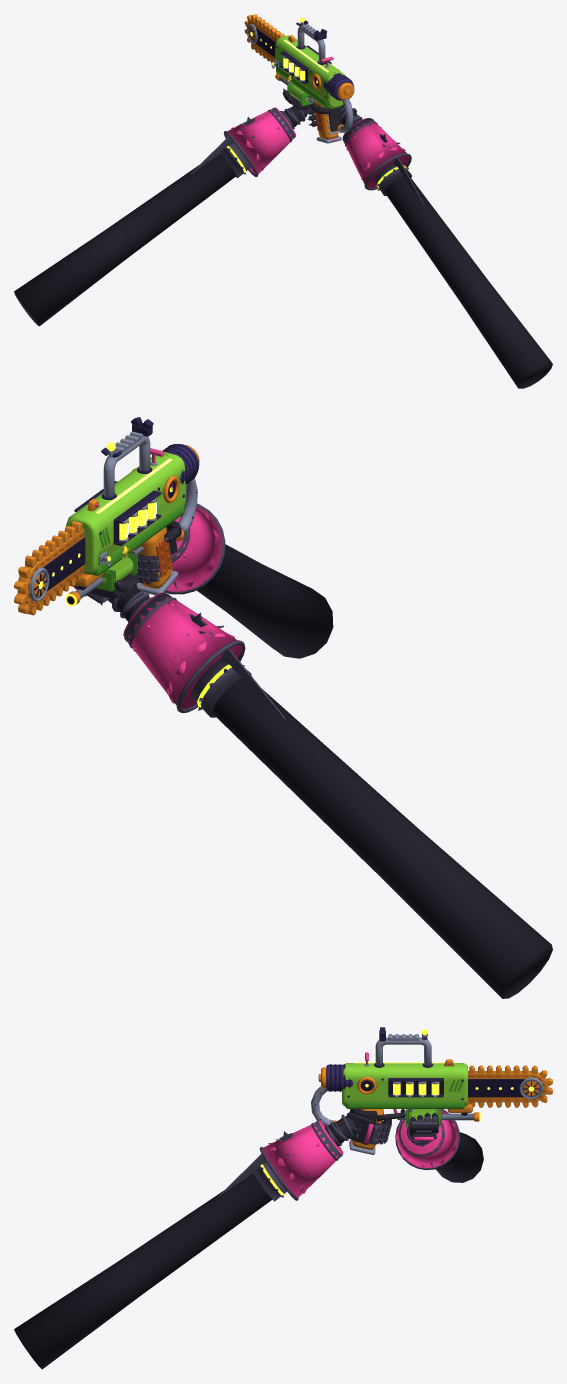
Rendered from toxic_ripsaw.glb.
3 renders of one model, top to bottom at view 1: azimuth 30°, elevation 25°; view 2: azimuth 150°, elevation 25°; view 3: azimuth 270°, elevation 25°, orthographic. The views are drawn at different scales.
Visible parts, largest first — view 1: ArmL, ArmR, Shell, ArmLKitBell, ArmRKitBell; view 2: ArmL, Shell, ArmR, ArmLKitBell, ArmRKitBell, Cell, Pump, ArmLKitFins; view 3: ArmR, Shell, ArmRKitBell, ArmLKitBell, ArmL, ArmRKitMitten, ArmRKitGauntlet, Sprocket.
Part boxes in pixels (left/top/right/bottom): ArmL: left=14, top=90, right=311, bottom=326; ArmR: left=309, top=97, right=552, bottom=388; Shell: left=247, top=20, right=354, bottom=143; ArmLKitBell: left=223, top=107, right=296, bottom=177; ArmRKitBell: left=342, top=118, right=411, bottom=190; ArmL: left=90, top=574, right=552, bottom=998; Shell: left=17, top=431, right=199, bottom=606; ArmR: left=135, top=520, right=333, bottom=658; ArmLKitBell: left=123, top=592, right=245, bottom=712; ArmRKitBell: left=164, top=503, right=225, bottom=594; Cell: left=113, top=490, right=161, bottom=545; Pump: left=96, top=553, right=137, bottom=591; ArmLKitFins: left=107, top=598, right=285, bottom=719; ArmR: left=14, top=1109, right=405, bottom=1369; Shell: left=311, top=1034, right=547, bottom=1154; ArmRKitBell: left=259, top=1120, right=343, bottom=1200; ArmLKitBell: left=395, top=1109, right=459, bottom=1170; ArmL: left=409, top=1113, right=483, bottom=1182; ArmRKitMitten: left=347, top=1112, right=373, bottom=1144; ArmRKitGauntlet: left=306, top=1113, right=391, bottom=1162; Sprocket: left=519, top=1077, right=543, bottom=1099.
Size of the model in its own units: 1.67 by 1.2 by 1.93.
